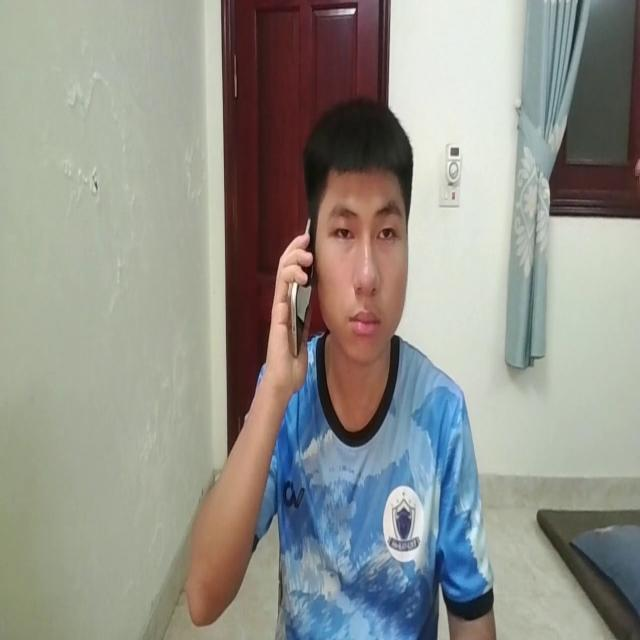phone: (288, 210, 318, 358)
student: (172, 90, 493, 640)
